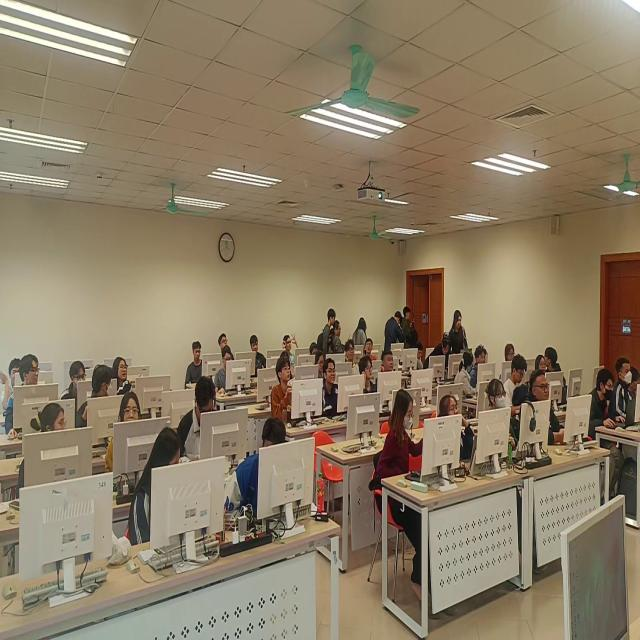raise_head: (528, 368, 579, 462), (104, 392, 150, 486), (438, 391, 484, 481), (488, 378, 517, 465), (273, 359, 306, 426), (318, 362, 349, 420), (186, 342, 219, 388), (361, 353, 382, 407), (474, 346, 493, 391), (251, 336, 269, 382), (380, 349, 400, 387), (284, 327, 301, 364), (114, 357, 132, 390), (344, 338, 359, 377), (500, 344, 519, 372), (533, 355, 551, 378), (316, 352, 329, 380), (365, 336, 377, 364), (220, 333, 233, 352)
stand: (447, 305, 472, 359), (403, 303, 421, 353), (387, 309, 404, 359), (322, 303, 337, 359)
using_computer: (585, 370, 633, 463), (177, 385, 226, 463), (614, 358, 640, 428), (214, 350, 246, 399), (65, 363, 93, 413)
